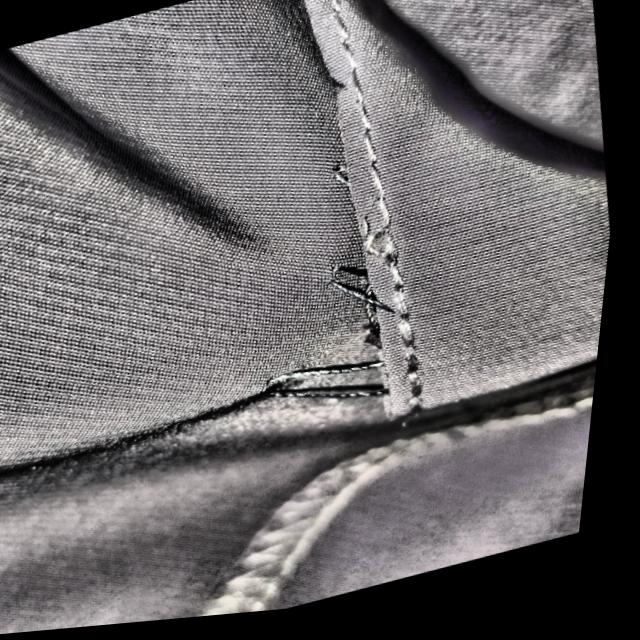Stitch: (219, 221, 437, 454)
